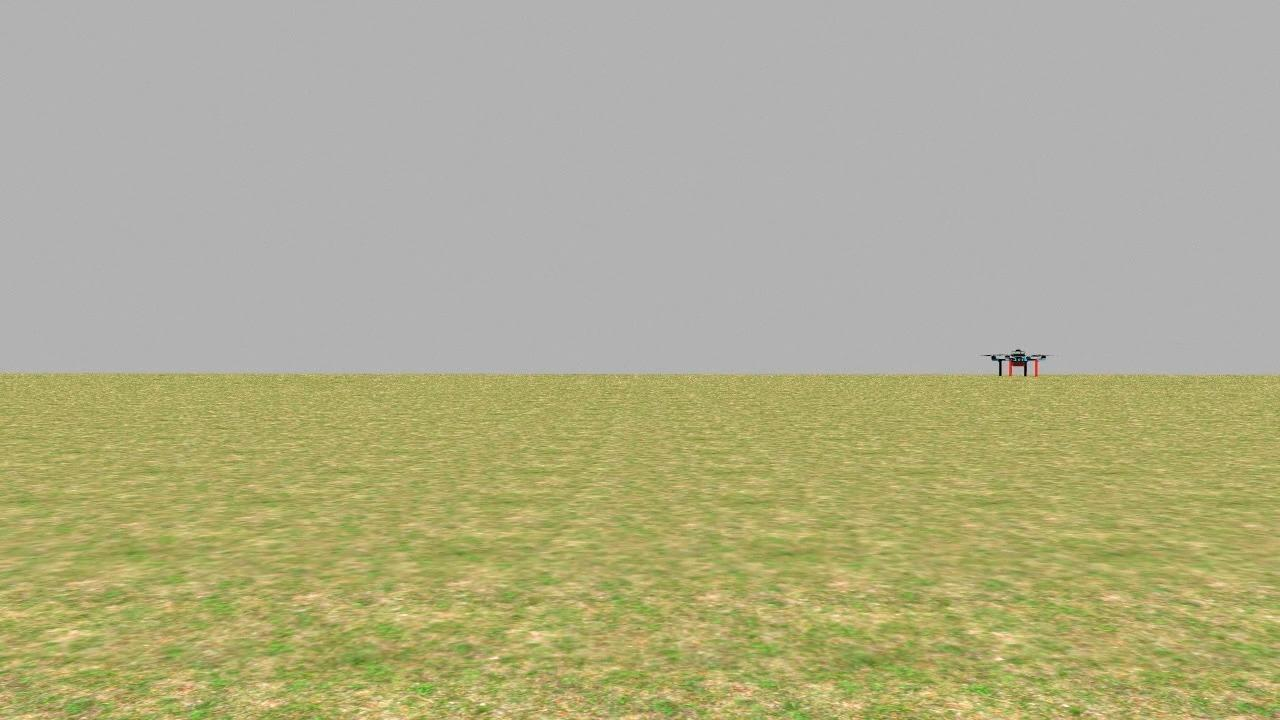UAV: (981, 338, 1057, 384)
